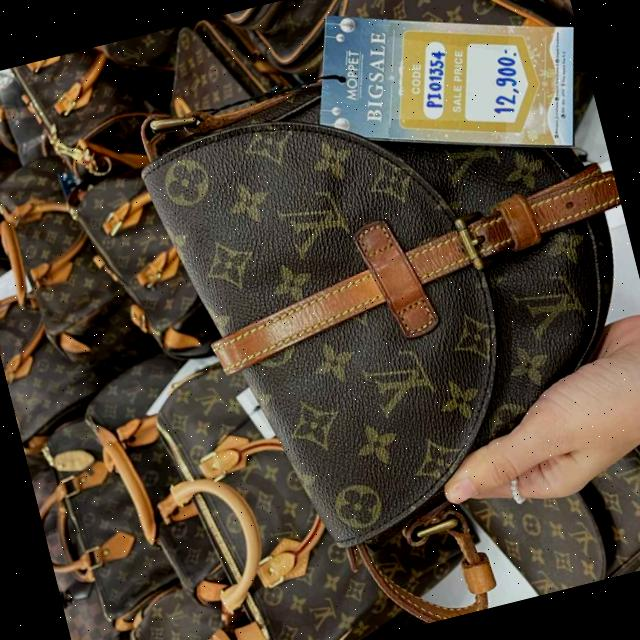Handbag: (120, 23, 640, 568)
